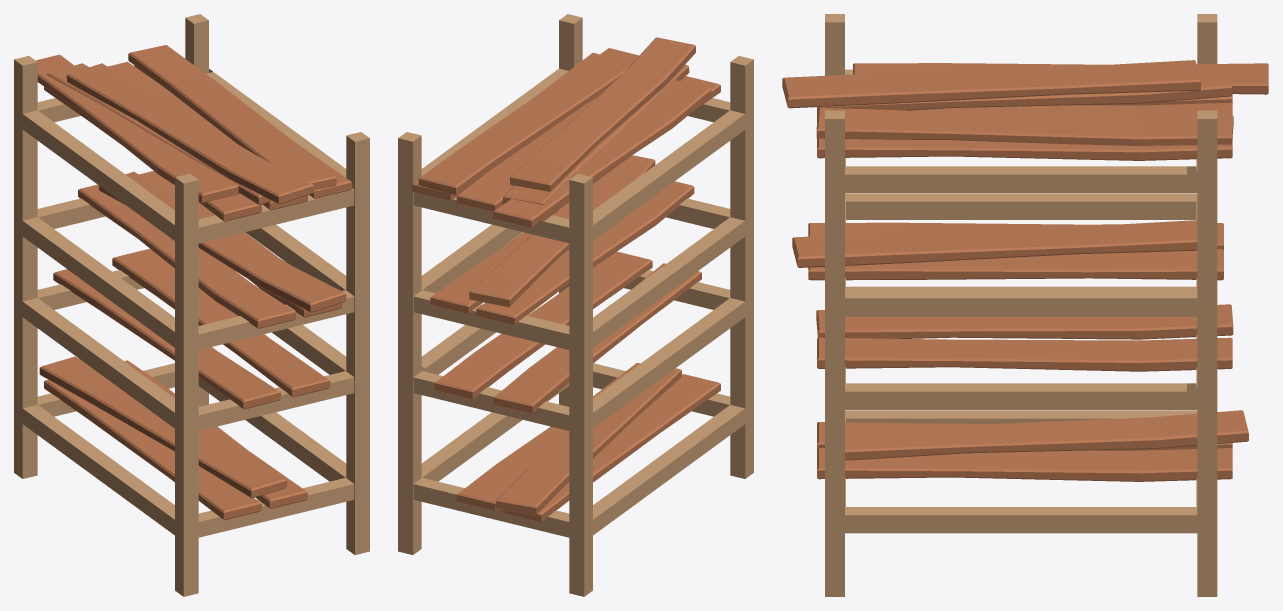
The model's file is Env_2.fbx.
The picture shows the model from 3 angles, left to right: view 1: azimuth 30°, elevation 25°; view 2: azimuth 150°, elevation 25°; view 3: azimuth 270°, elevation 25°; orthographic projection. The views are drawn at different scales.
Parts seen in each view (by area): view 1: SCAFFOLD, BOARD; view 2: SCAFFOLD, BOARD; view 3: BOARD, SCAFFOLD.
Boxes of the visible parts, x1=… form: SCAFFOLD: x1=14, y1=14, x2=369, y2=596; BOARD: x1=36, y1=45, x2=352, y2=520; SCAFFOLD: x1=398, y1=14, x2=753, y2=596; BOARD: x1=412, y1=37, x2=720, y2=522; BOARD: x1=782, y1=60, x2=1268, y2=481; SCAFFOLD: x1=825, y1=14, x2=1217, y2=596.
Size of the model in its own units: 105 by 223 by 205.
